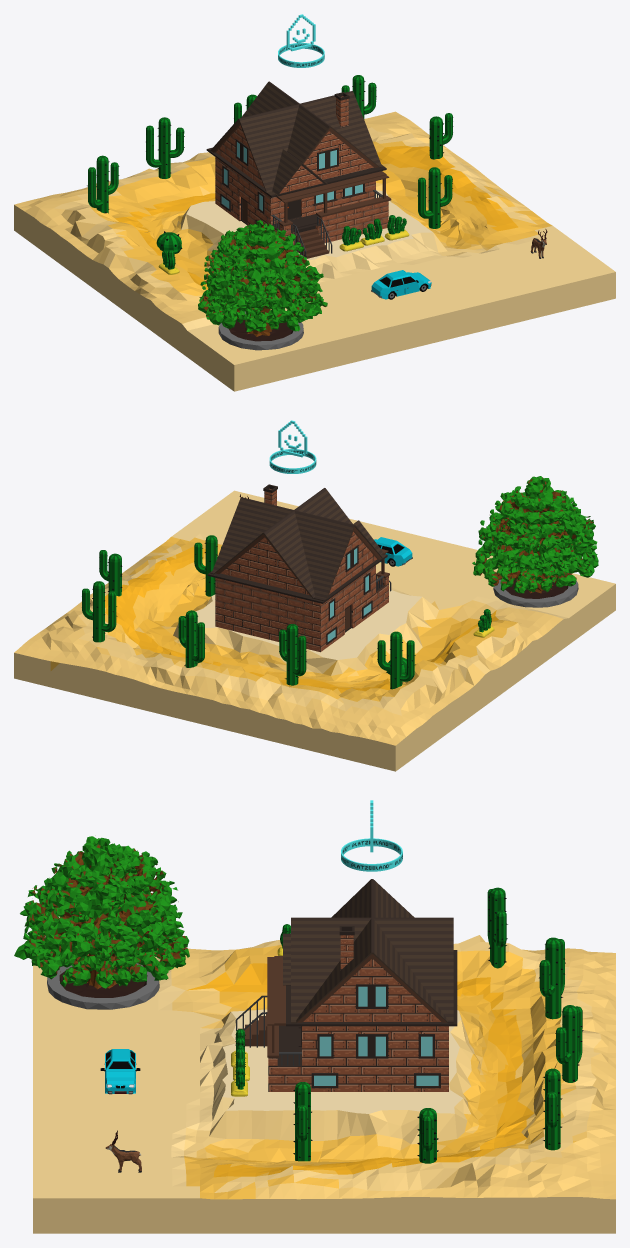
3 renders of one model, top to bottom at view 1: azimuth 30°, elevation 25°; view 2: azimuth 150°, elevation 25°; view 3: azimuth 270°, elevation 25°, orthographic. The views are drawn at different scales.
Visible parts, largest first — view 1: Cube.001, Cube.469, OBJRANDOM_CEIBA, Cylinder.044, Cylinder.037, Cylinder.045, VEHICLES_CAR, TYPE_PREMIUM, Cylinder.038, Cylinder.042; view 2: Cube.001, Cube.469, OBJRANDOM_CEIBA, Cylinder.045, Cylinder.042, Cylinder.044, Cylinder.043, TYPE_PREMIUM, Cylinder.037, Cylinder.038, VEHICLES_CAR; view 3: Cube.001, Cube.469, OBJRANDOM_CEIBA, Cylinder.044, Cylinder.043, Cylinder.045, VEHICLES_CAR, Cylinder.042, Cylinder.037, TYPE_PREMIUM, Cylinder.038.
Part boxes in pixels (box(x1,y1,x2,y2)): Cube.001: box(14, 111, 615, 391); Cube.469: box(206, 81, 391, 258); OBJRANDOM_CEIBA: box(198, 220, 327, 350); Cylinder.044: box(146, 117, 184, 178); Cylinder.037: box(417, 167, 452, 228); Cylinder.045: box(87, 155, 119, 213); VEHICLES_CAR: box(371, 270, 431, 299); TYPE_PREMIUM: box(278, 14, 324, 67); Cylinder.038: box(429, 113, 453, 159); Cylinder.042: box(341, 75, 376, 119); Cube.001: box(14, 490, 615, 771); Cube.469: box(207, 484, 391, 652); OBJRANDOM_CEIBA: box(472, 476, 598, 607); Cylinder.045: box(377, 631, 415, 689); Cylinder.042: box(82, 581, 117, 642); Cylinder.044: box(279, 624, 306, 685); Cylinder.043: box(178, 610, 205, 667); TYPE_PREMIUM: box(269, 420, 316, 473); Cylinder.037: box(194, 535, 221, 596); Cylinder.038: box(99, 550, 122, 596); VEHICLES_CAR: box(374, 537, 412, 566); Cube.001: box(33, 935, 615, 1233); Cube.469: box(235, 879, 457, 1091); OBJRANDOM_CEIBA: box(14, 836, 189, 1009); Cylinder.044: box(539, 937, 565, 1019); Cylinder.043: box(555, 1005, 583, 1082); Cylinder.045: box(487, 887, 507, 968); VEHICLES_CAR: box(100, 1049, 140, 1094); Cylinder.042: box(543, 1068, 562, 1150); Cylinder.037: box(293, 1082, 312, 1161); TYPE_PREMIUM: box(341, 800, 402, 871); Cylinder.038: box(417, 1108, 438, 1163).
Size of the model in its own units: 4015 by 2415 by 4132.
37 materials, 4 textured.
